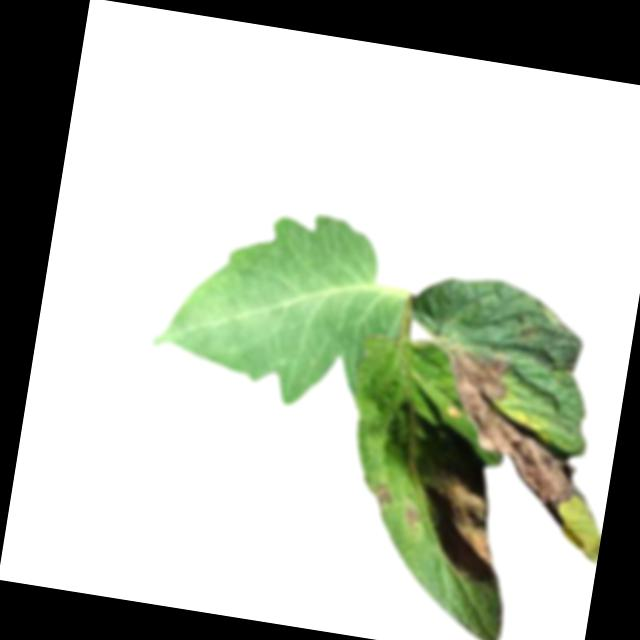Late_blight: (421, 343, 605, 530), (421, 466, 513, 585), (368, 480, 396, 510), (398, 500, 420, 535)
